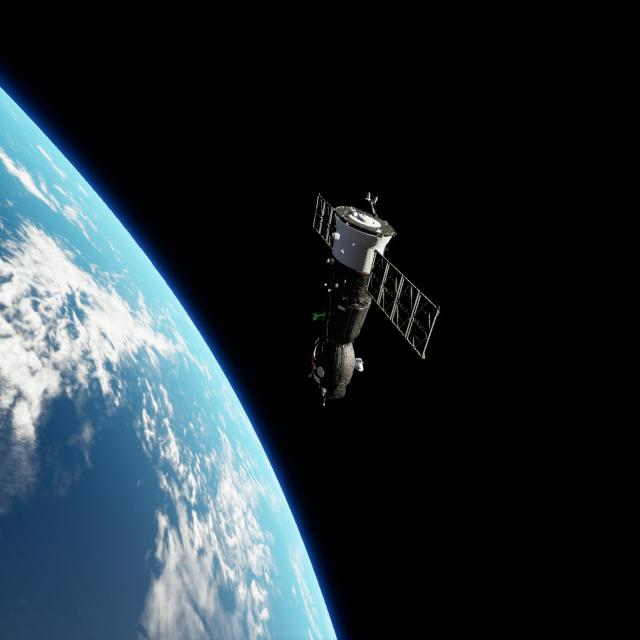Satellites revolving around earth: (306, 189, 442, 408)
